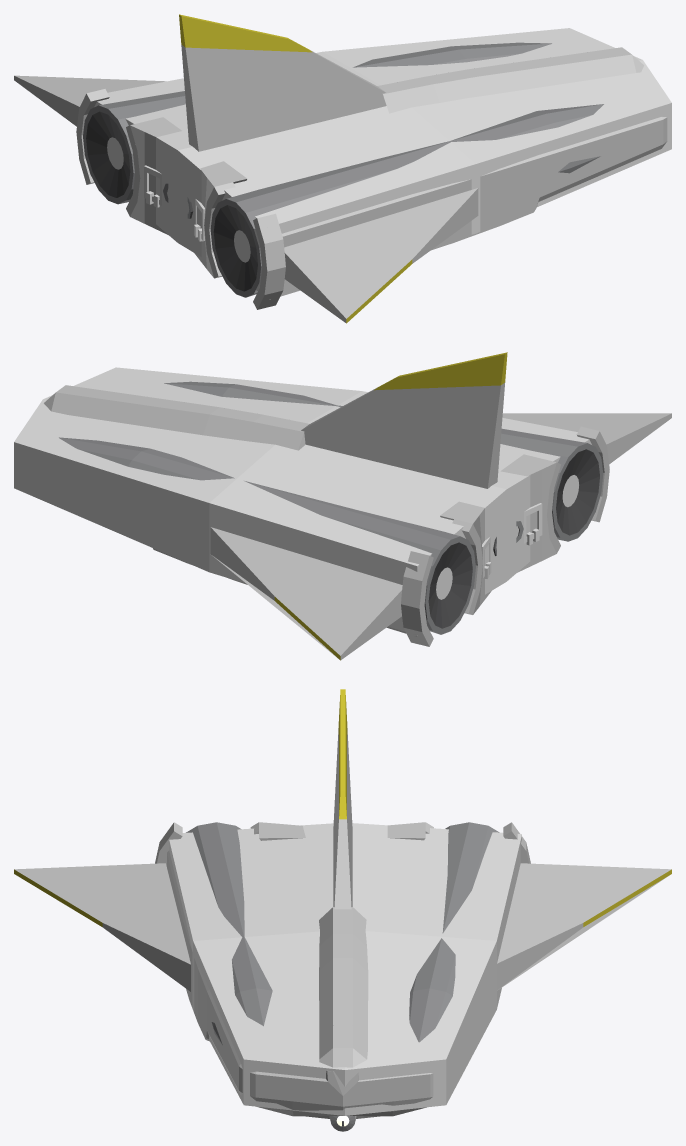
The model's file is PlayerShip.02.fbx.
3 views of the same model, one above another, from view 1: azimuth 30°, elevation 25°; view 2: azimuth 150°, elevation 25°; view 3: azimuth 270°, elevation 25° (orthographic).
Visible parts, largest first — view 1: Ship.B, Ship.A; view 2: Ship.B, Ship.A; view 3: Ship.A, Ship.B.
Boxes of the visible parts, x1,y1,x2,y2 form: Ship.B: (14,14,667,323); Ship.A: (94,28,671,290); Ship.B: (44,352,671,660); Ship.A: (14,367,591,635); Ship.A: (169,823,521,1115); Ship.B: (14,689,671,1131).
Size of the model in its own units: 214 by 111 by 260.
